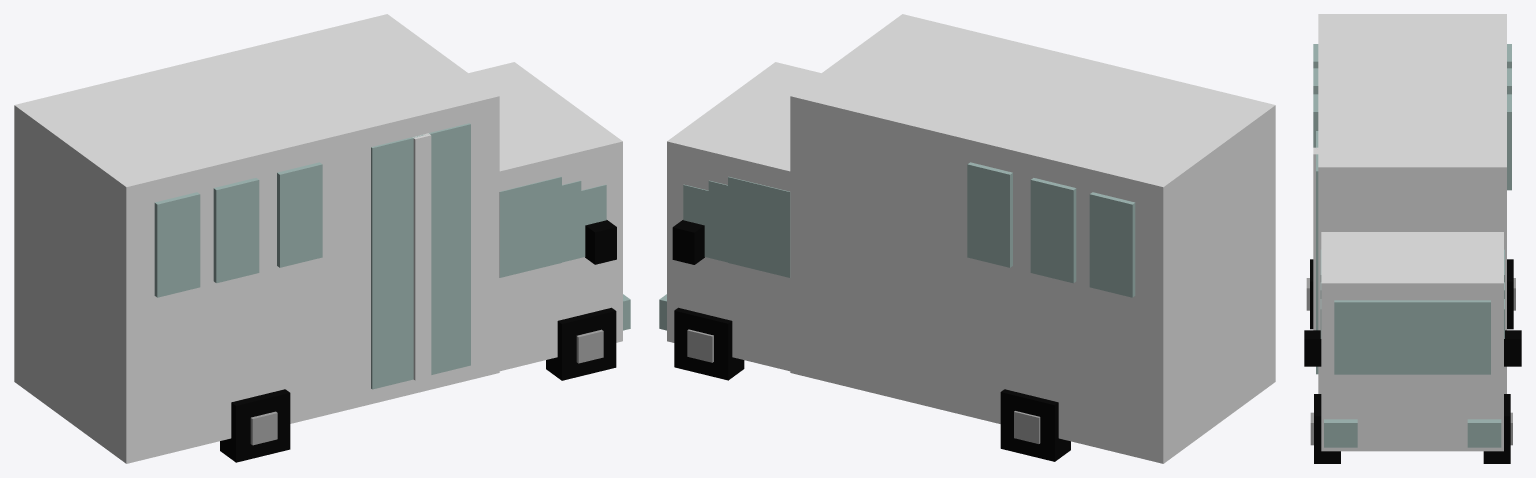
Rendered from Shuttle.fbx.
3 views of the same model, side by side, from view 1: azimuth 30°, elevation 25°; view 2: azimuth 150°, elevation 25°; view 3: azimuth 270°, elevation 25° (orthographic). The views are drawn at different scales.
Parts seen in each view (by area): view 1: pCube24; view 2: pCube24; view 3: pCube24.
Part boxes in pixels (box(x1,y1,x2,y2)): pCube24: box(14, 14, 630, 463); pCube24: box(659, 14, 1275, 463); pCube24: box(1304, 14, 1521, 463).
Bounding box in the file's own units: 9.37 × 5.24 × 4.13.
